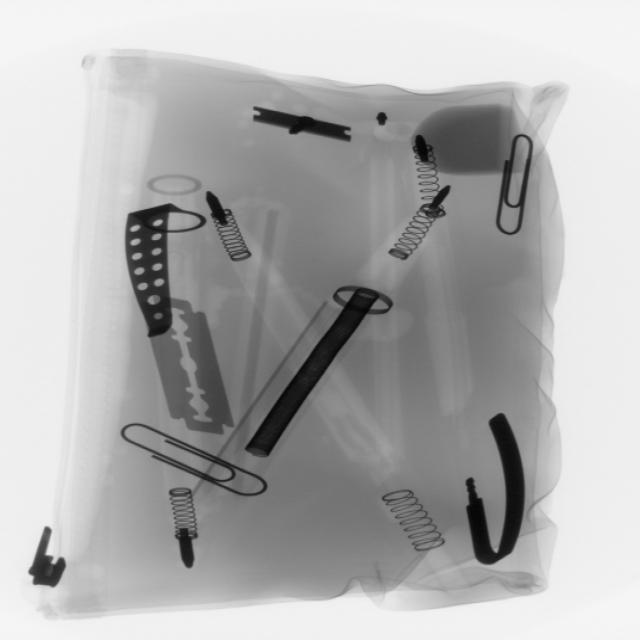BLADE: (142, 290, 242, 449)
